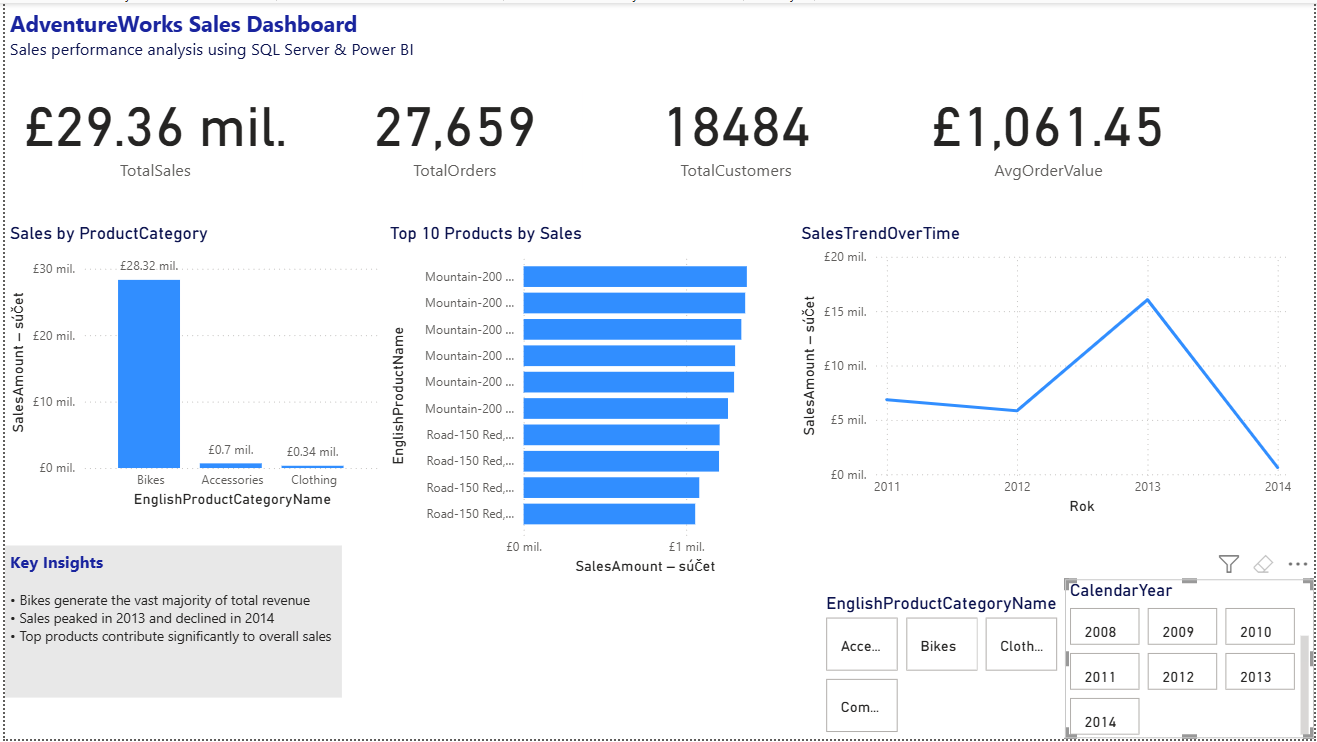

Layout of this report page (visuals, bound fields, positions):
{"tool":"powerbi","page":{"name":"Strana 1","canvas":[1280,720],"ordinal":0},"visuals":[{"type":"card","fields":{"Values":["Sum(FactInternetSales.SalesAmount)"]},"box":[0,67.3,294.7,114.9],"z":0},{"type":"card","fields":{"Values":["Count(FactInternetSales.SalesOrderNumber)"]},"box":[294.7,67.3,291,114.9],"z":1},{"type":"card","fields":{"Values":["Count(DimCustomer.CustomerKey)"]},"box":[564.9,67.3,300.8,114.9],"z":2},{"type":"card","fields":{"Values":["FactInternetSales.Average Order Value"]},"box":[856,67.3,330.2,114.9],"z":4},{"type":"clusteredColumnChart","title":"Sales by ProductCategory","fields":{"Y":["Sum(FactInternetSales.SalesAmount)"],"Category":["DimProductCategory.EnglishProductCategoryName"]},"box":[0,215.2,371.7,283.7],"z":5},{"type":"lineChart","title":"SalesTrendOverTime","fields":{"Category":["DimDate.FullDateAlternateKey.Variácia.Hierarchia dátumov.Rok","DimDate.FullDateAlternateKey.Variácia.Hierarchia dátumov.Štvrťrok","DimDate.FullDateAlternateKey.Variácia.Hierarchia dátumov.Mesiac","DimDate.FullDateAlternateKey.Variácia.Hierarchia dátumov.Deň"],"Y":["Sum(FactInternetSales.SalesAmount)"]},"box":[774.1,215.2,489.1,289.8],"z":6},{"type":"clusteredBarChart","title":"Top 10 Products by Sales ","fields":{"Category":["DimProduct.EnglishProductName"],"Y":["Sum(FactInternetSales.SalesAmount)"]},"box":[371.7,215.2,402.3,348.5],"z":7},{"type":"textbox","box":[0,0,424.6,67.4],"z":9},{"type":"advancedSlicerVisual","fields":{"Values":["DimDate.CalendarYear"]},"box":[1037.4,582.3,242.8,137.3],"z":10},{"type":"advancedSlicerVisual","fields":{"Values":["DimProductCategory.EnglishProductCategoryName"]},"box":[827.7,582.3,209.8,137.3],"z":11},{"type":"textbox","box":[0,530.2,329.3,148.7],"z":12}]}

Visuals, with their boxes in screenshot pixels (x1, y1, x2, y2), scaled from the page's 1280x720 canvas onto the 1317x742 screenshot:
card - Sum(FactInternetSales.SalesAmount): 0,69,303,188
card - Count(FactInternetSales.SalesOrderNumber): 303,69,603,188
card - Count(DimCustomer.CustomerKey): 581,69,891,188
card - FactInternetSales.Average Order Value: 881,69,1220,188
"Sales by ProductCategory" clusteredColumnChart: 0,222,382,514
"SalesTrendOverTime" lineChart: 796,222,1300,520
"Top 10 Products by Sales " clusteredBarChart: 382,222,796,581
textbox: 0,0,437,69
advancedSlicerVisual - DimDate.CalendarYear: 1067,600,1316,741
advancedSlicerVisual - DimProductCategory.EnglishProductCategoryName: 852,600,1067,741
textbox: 0,546,339,700
